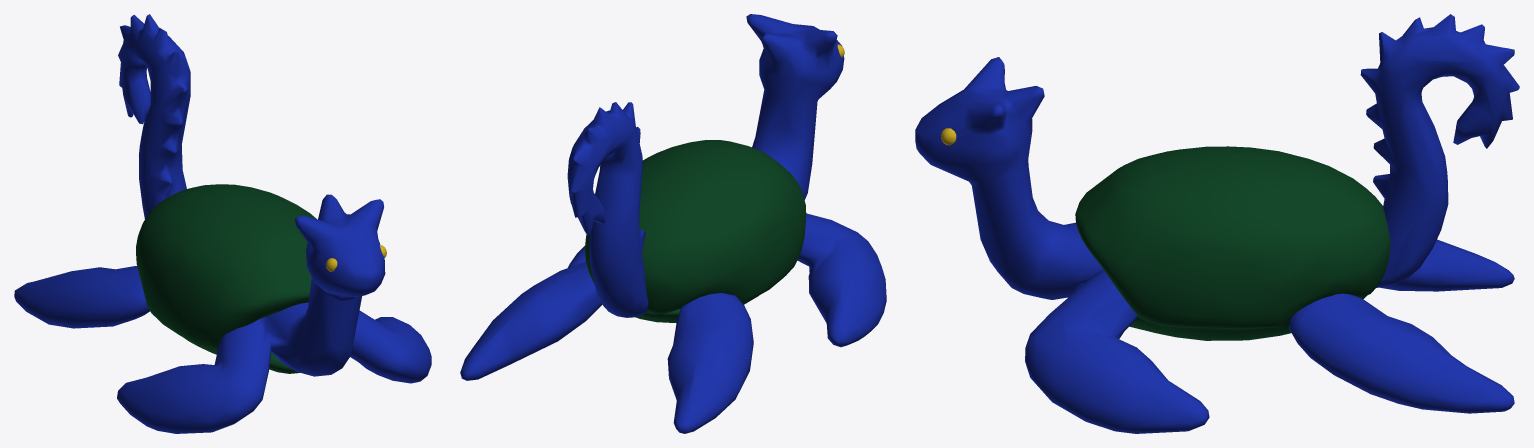
Rendered from creatureMedium_SM.fbx.
The picture shows the model from 3 angles, left to right: view 1: azimuth 30°, elevation 25°; view 2: azimuth 150°, elevation 25°; view 3: azimuth 270°, elevation 25°; orthographic projection. The views are drawn at different scales.
Parts seen in each view (by area): view 1: creatureMedium_SM; view 2: creatureMedium_SM; view 3: creatureMedium_SM.
Part boxes in pixels (x1,y1,x2,y2): creatureMedium_SM: (14,14,431,433); creatureMedium_SM: (460,14,886,433); creatureMedium_SM: (915,14,1519,433).
Bounding box in the file's own units: 0.9354 × 0.9021 × 1.44.
